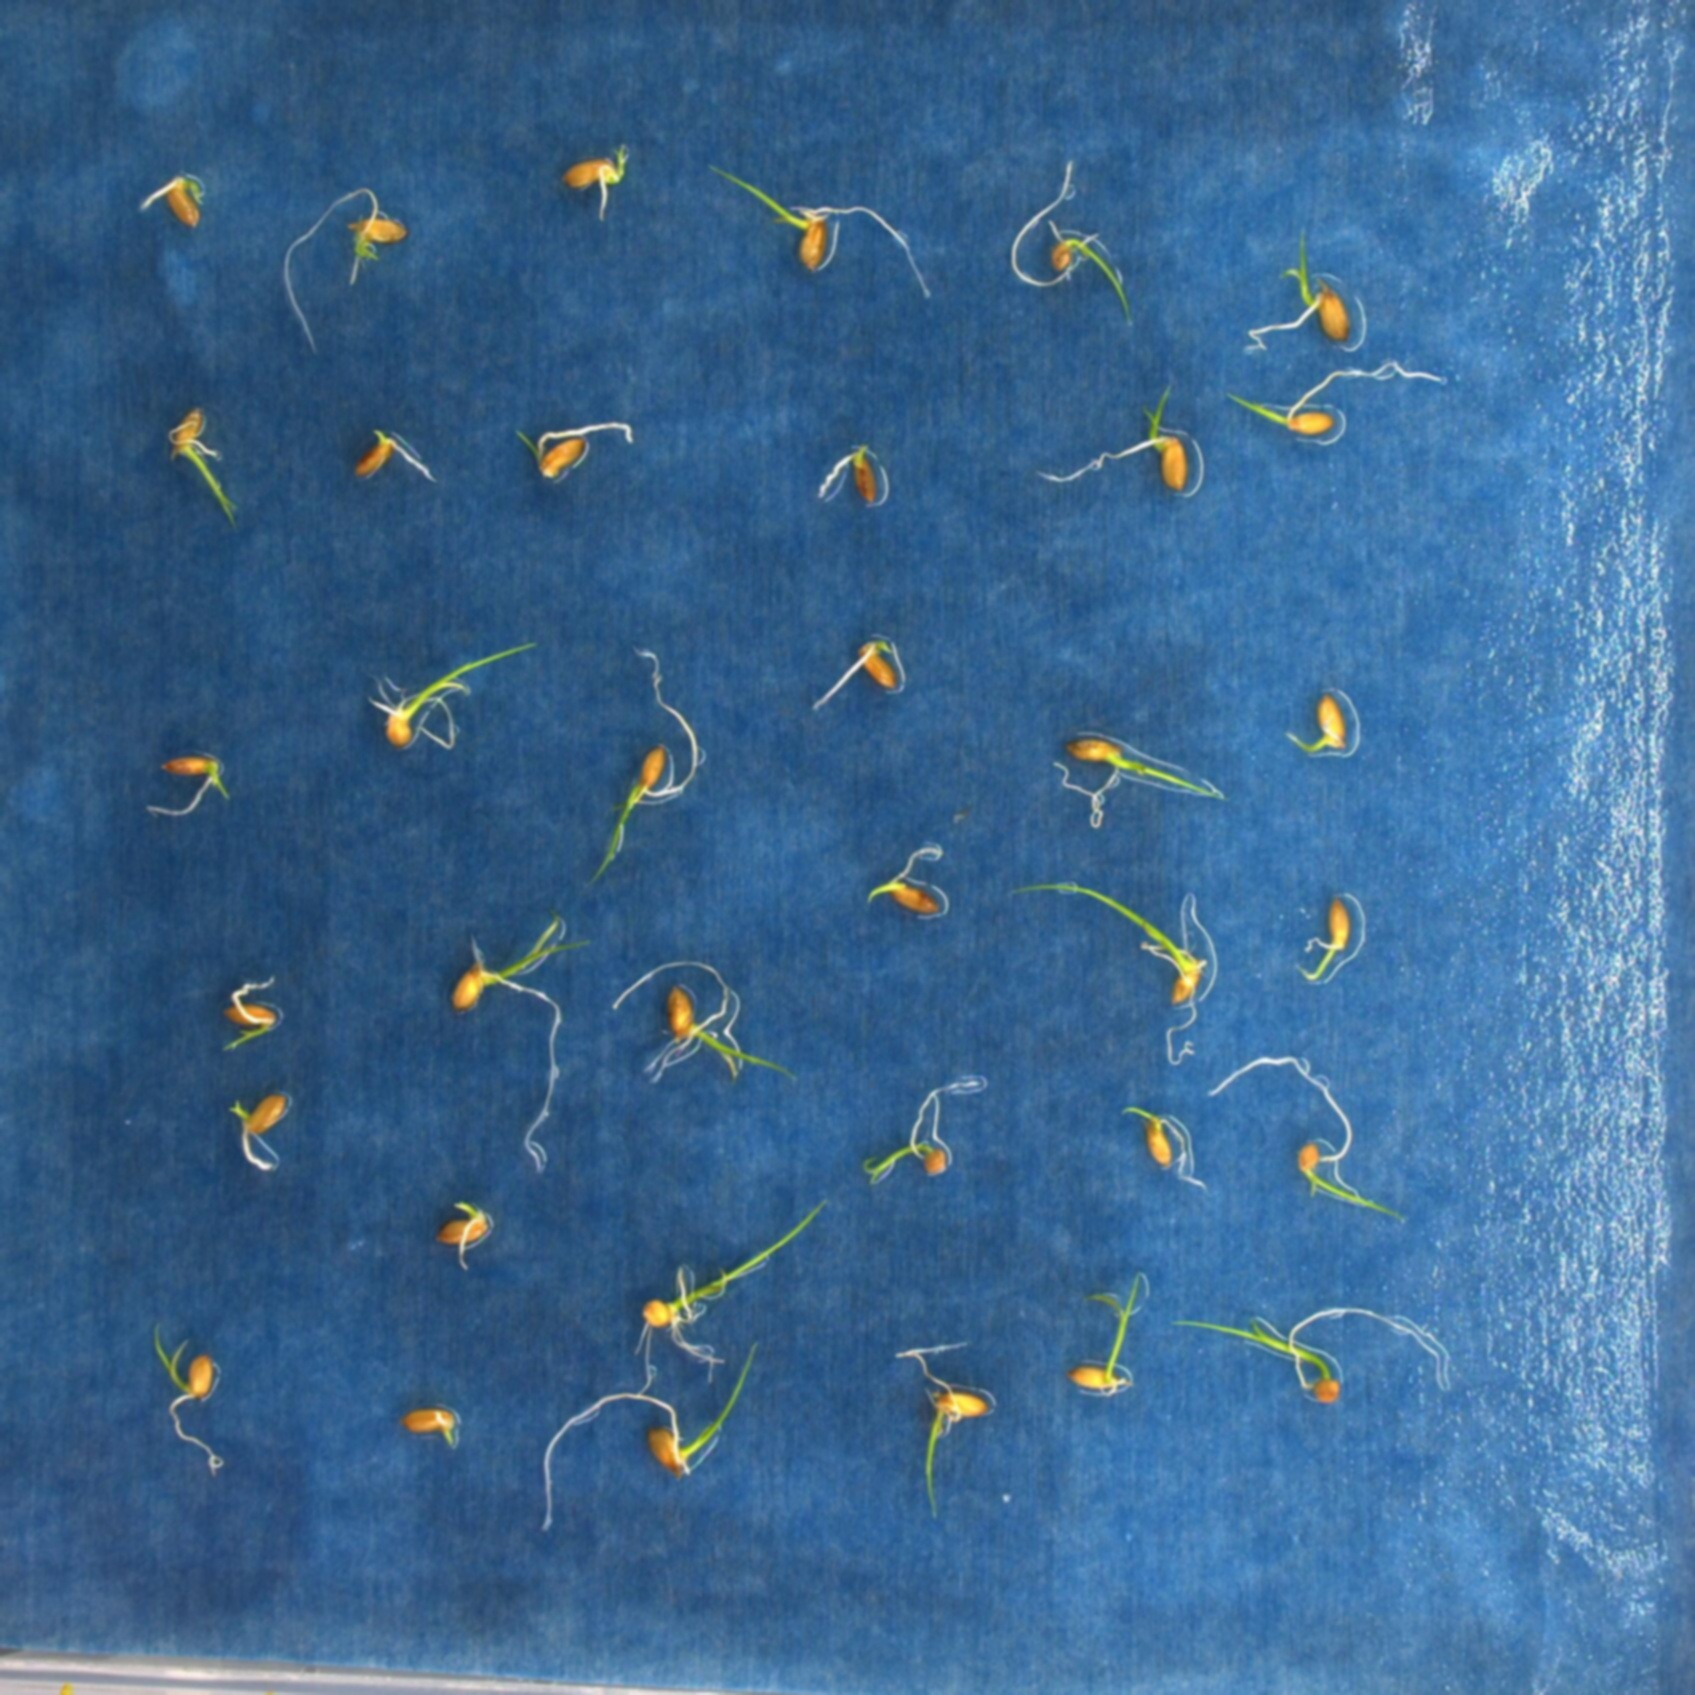not sprout: (813, 635, 899, 711), (352, 427, 438, 483), (228, 1093, 289, 1169), (820, 444, 882, 504), (402, 1403, 463, 1451)
sprout: (542, 1338, 764, 1535), (633, 1198, 829, 1395), (1009, 882, 1218, 1065), (452, 914, 596, 1175), (1209, 1054, 1406, 1226), (709, 163, 934, 300), (1170, 1305, 1445, 1405), (591, 646, 702, 879), (612, 959, 798, 1085), (1007, 158, 1135, 328), (282, 186, 408, 355), (365, 640, 539, 751), (1228, 359, 1444, 438), (894, 1340, 989, 1520), (1038, 385, 1192, 494), (1052, 734, 1226, 829), (861, 1077, 984, 1187), (1243, 227, 1350, 352), (152, 1321, 228, 1475), (1066, 1271, 1152, 1395), (168, 407, 239, 528), (1122, 1104, 1215, 1194), (515, 421, 633, 481), (146, 751, 231, 821), (560, 144, 633, 220), (869, 844, 947, 914), (220, 973, 282, 1052), (1298, 896, 1354, 983), (1285, 692, 1354, 754), (435, 1201, 494, 1273), (140, 172, 206, 228)
